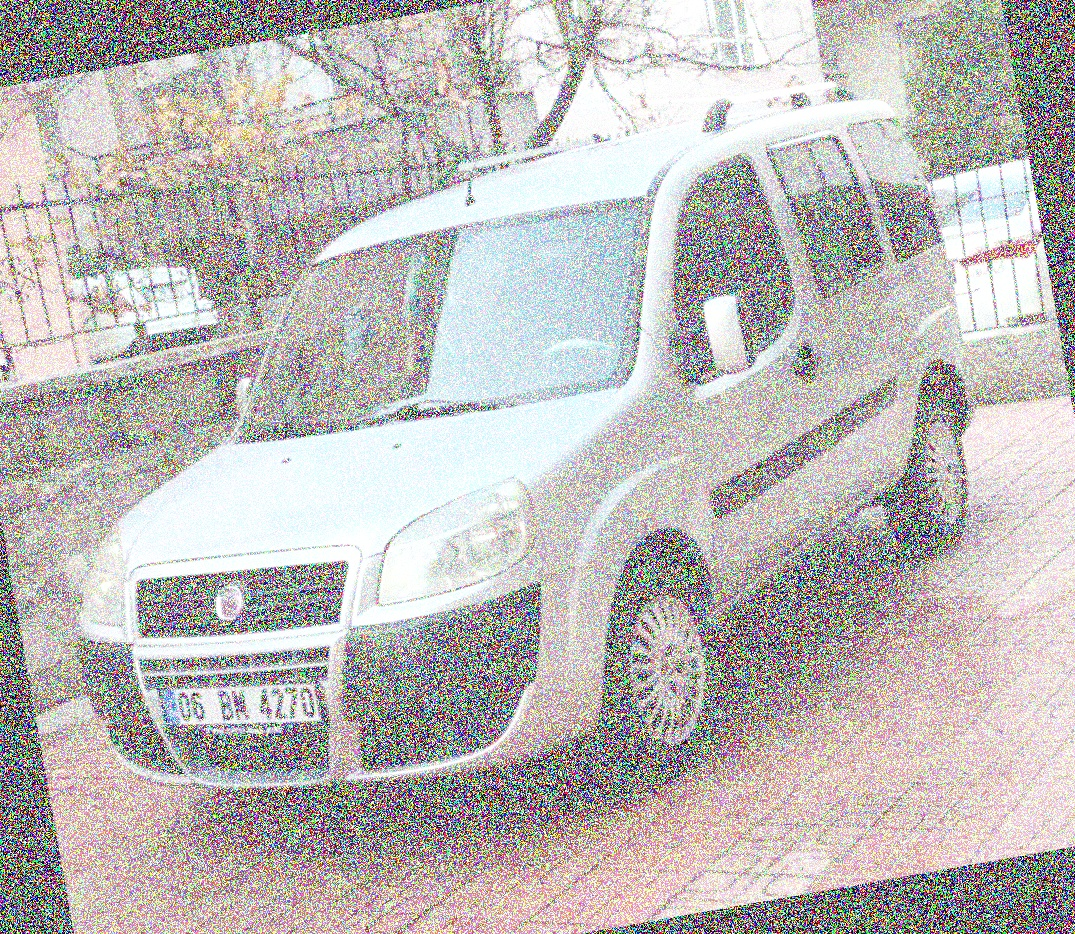plaka: (170, 675, 322, 731)
